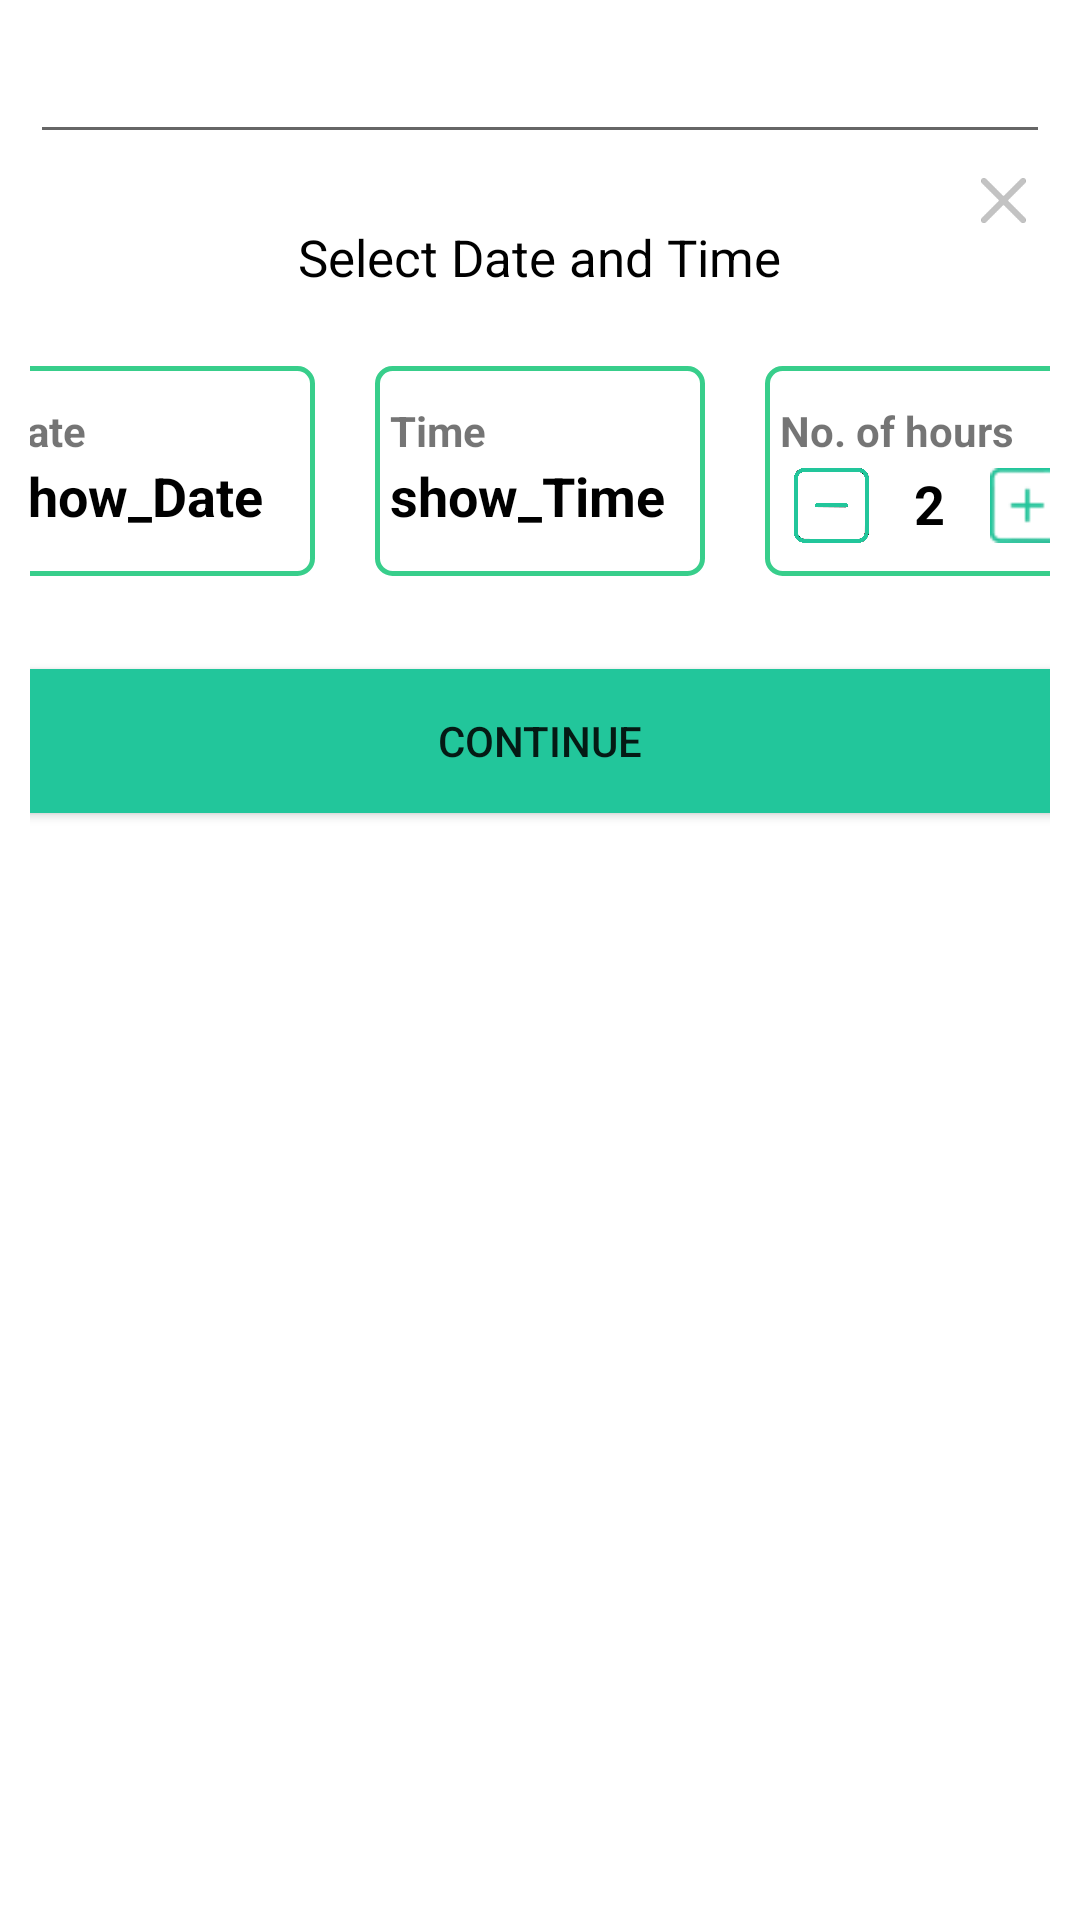

Named icons in this screenshot (1080 × 1920) and their centers, (x,y):
cancel: (1003,200)
substract: (831,505)
